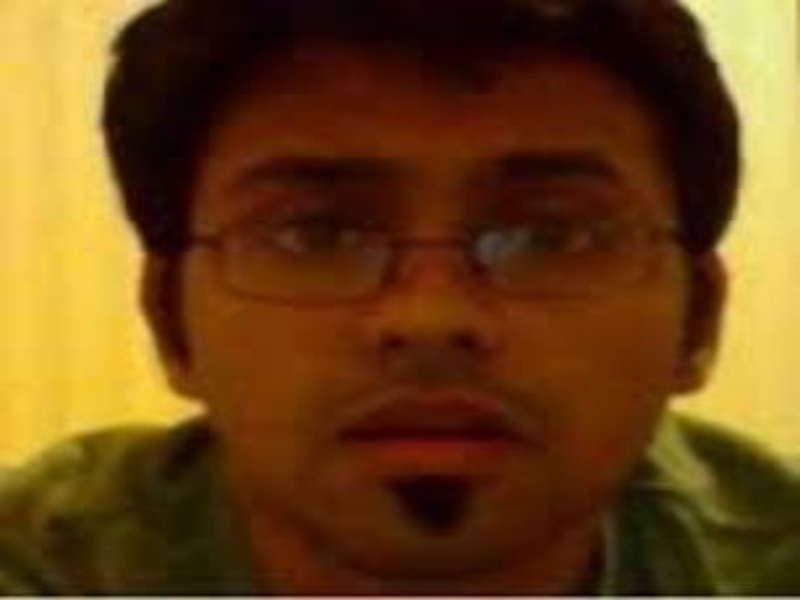TsisyArotava: (101, 1, 736, 580)
